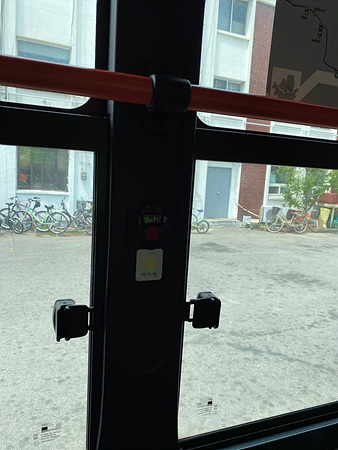bell: (136, 202, 167, 248)
